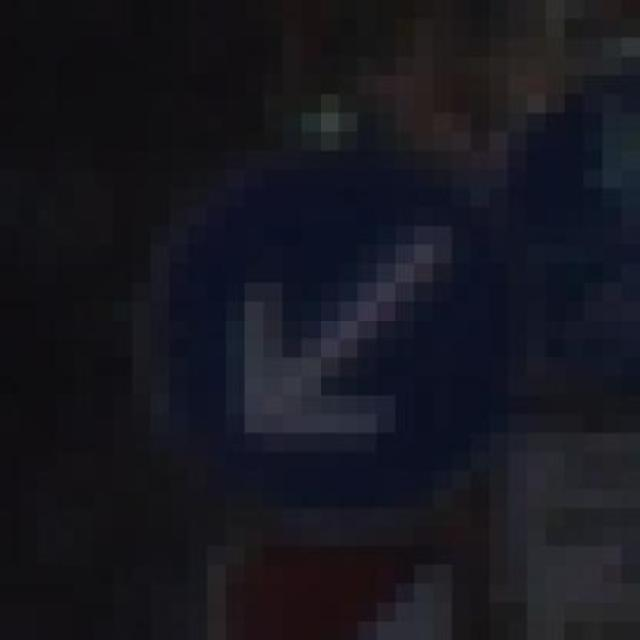Keep-Left: (131, 132, 527, 508)
